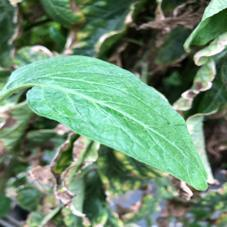Healthy: (1, 52, 212, 194)
